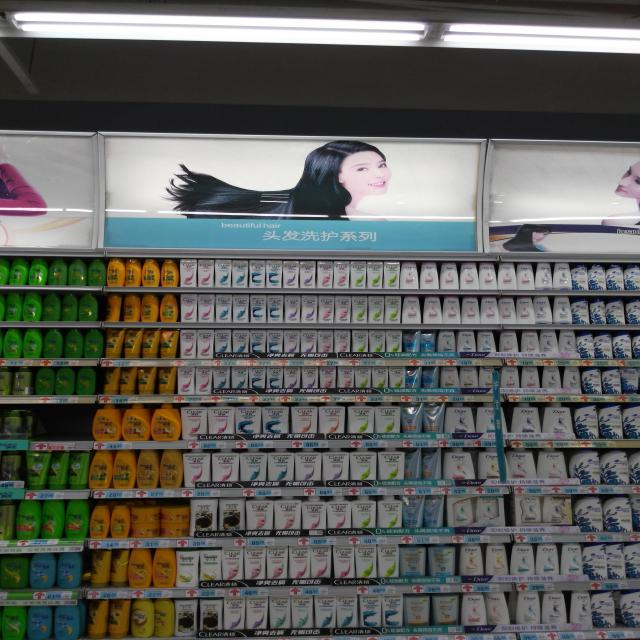100- O.O.S: (44, 407, 90, 450)
